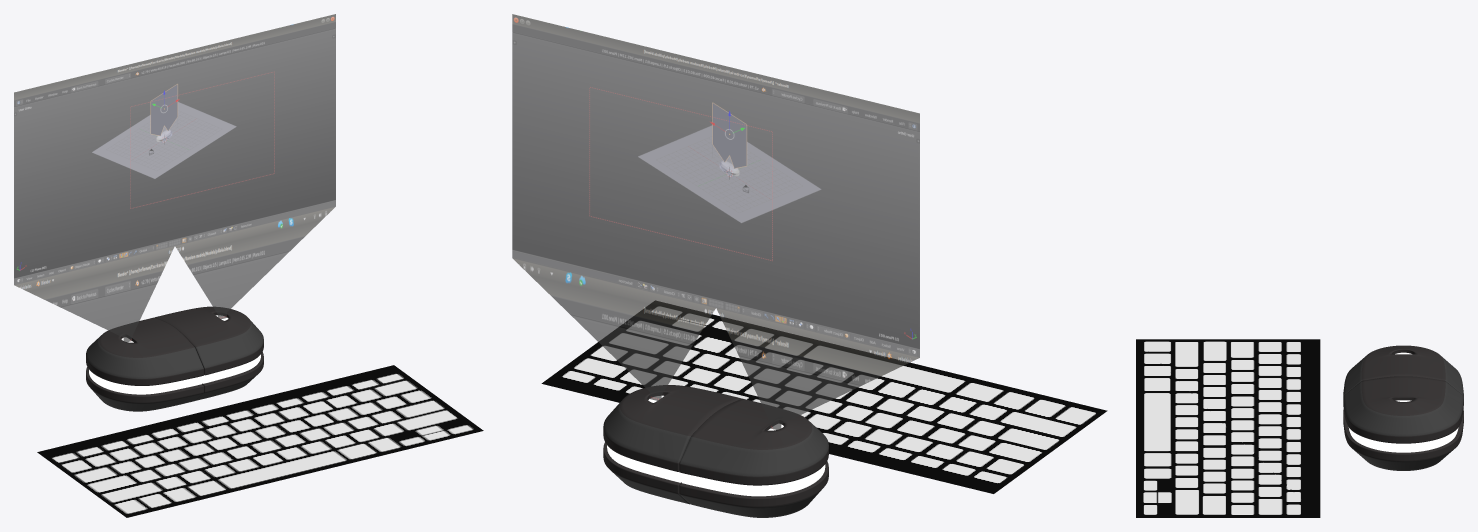
The picture shows the model from 3 angles, left to right: view 1: azimuth 30°, elevation 25°; view 2: azimuth 150°, elevation 25°; view 3: azimuth 270°, elevation 25°; orthographic projection. The views are drawn at different scales.
Parts seen in each view (by area): view 1: Plane.001, Keyboard-ref2, Circle; view 2: Plane.001, Keyboard-ref2, Circle; view 3: Keyboard-ref2, Circle.
Part boxes in pixels (x1,y1,x2,y2): Plane.001: (14,14,335,341); Keyboard-ref2: (37,365,483,517); Circle: (86,306,263,411); Plane.001: (512,14,919,429); Keyboard-ref2: (541,300,1107,493); Circle: (603,385,828,517); Keyboard-ref2: (1136,339,1320,517); Circle: (1343,345,1463,470).
Size of what is drawn, in the model's own units: 7.29 by 6.59 by 5.65.
Materials: 5 (2 with a texture image).
